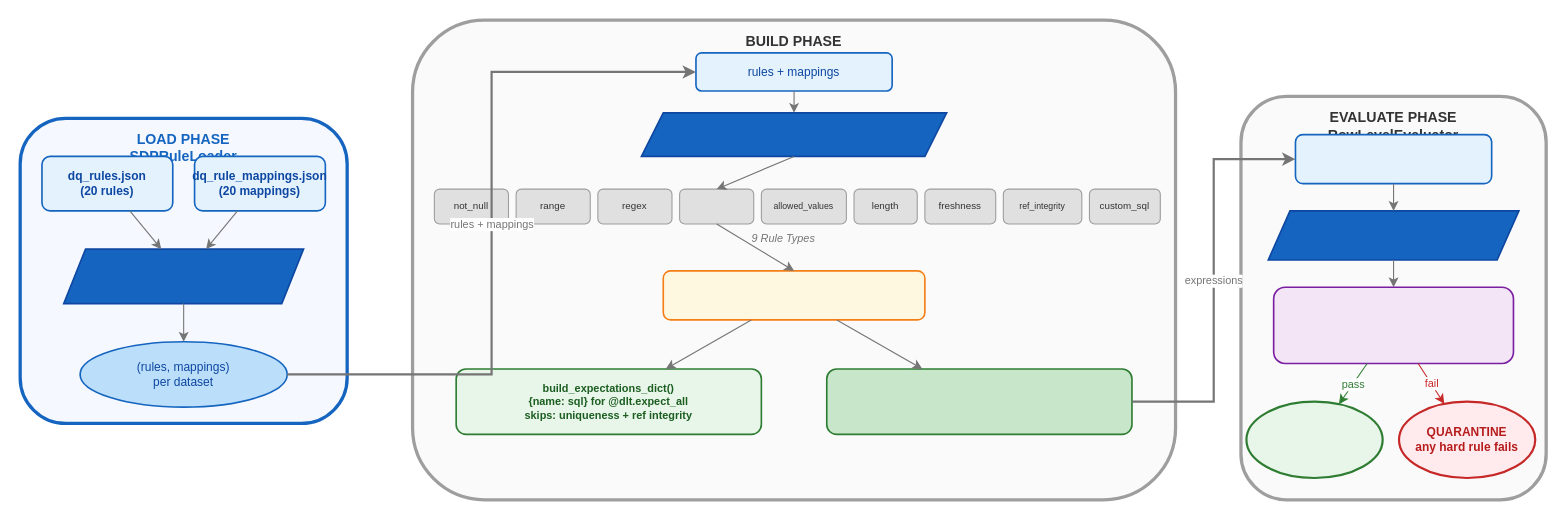
This 1566x520 diagram has some shape labels left out. Each missing label, with the centre of its shape:
"Build _dq struct results array passed / failed rules counts, score, timestamp" belongs at [1393,325].
"build_all_expressions() full metadata list for row-level evaluation" belongs at [978,401].
"CLEAN all hard rules pass" belongs at [1314,439].
"DataFrame + rule expressions" belongs at [1393,158].
"F.expr(sql) per rule per row → boolean" belongs at [1393,235].
"Filter: dataset + is_active Sort: by priority" belongs at [183,276].
"Map rule_type to SQL generator" belongs at [793,134].
"SQL boolean expression TRUE = row passes" belongs at [793,295].
"uniqueness" belongs at [716,206].
